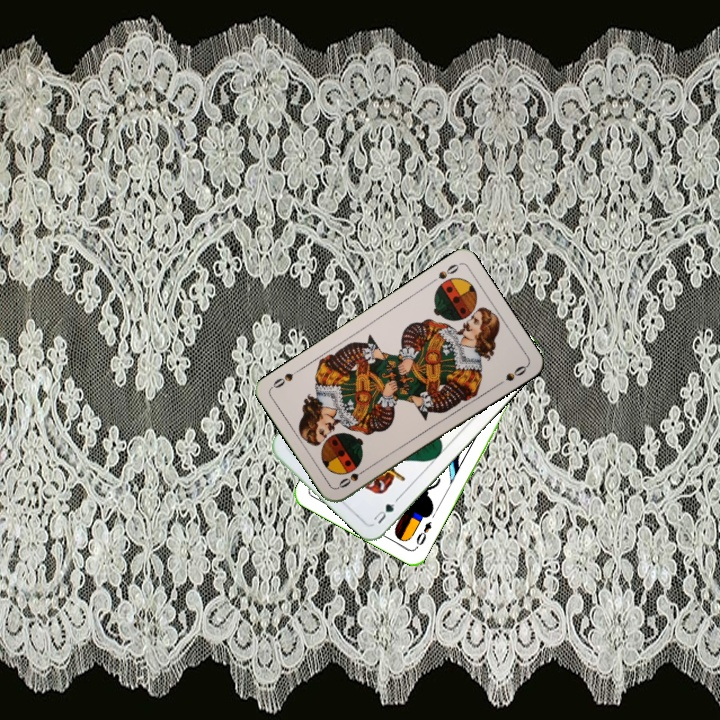EO: (412, 517, 434, 551)
GU: (369, 494, 401, 527)
SO: (334, 464, 371, 491), (426, 260, 462, 287)
